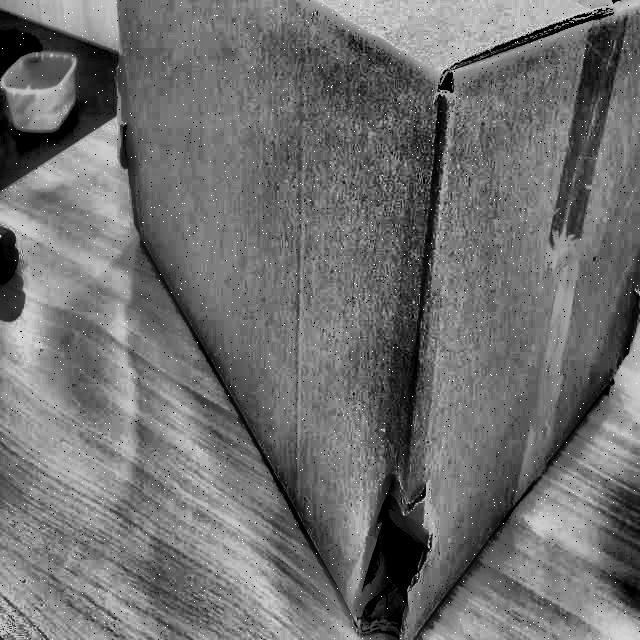box: (112, 0, 640, 639)
hole: (344, 457, 438, 633)
